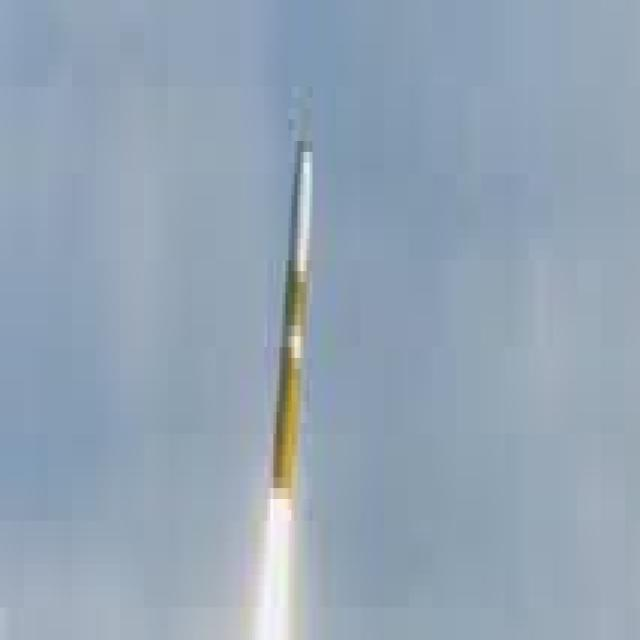missile: (264, 130, 319, 539)
